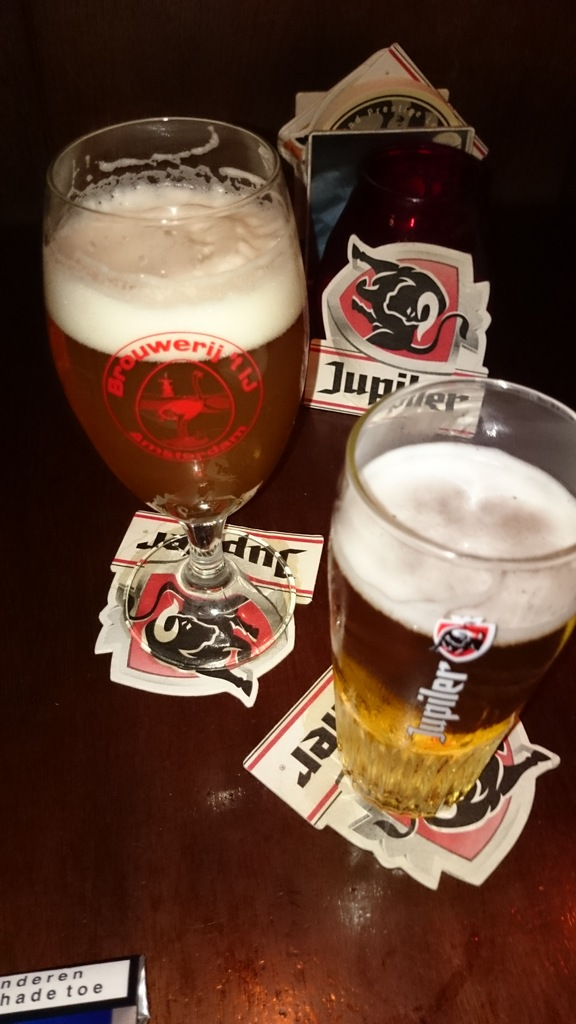Beer: (42, 113, 325, 674), (288, 357, 575, 849)
